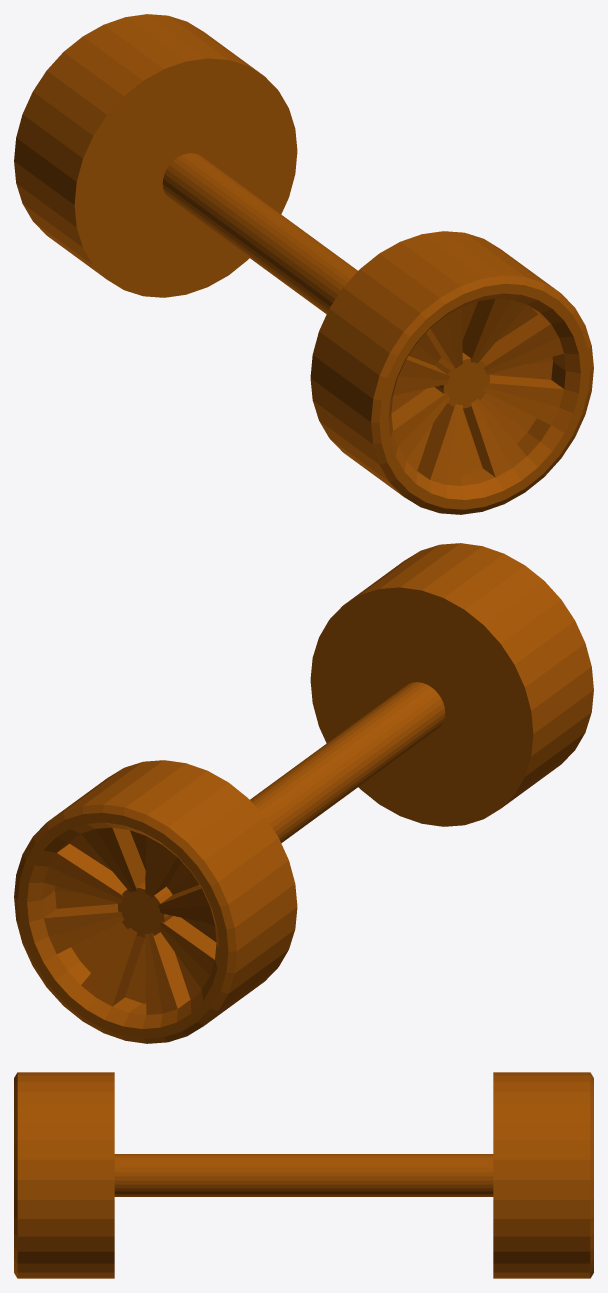
The model's file is wheel.obj.
3 renders of one model, top to bottom at view 1: azimuth 30°, elevation 25°; view 2: azimuth 150°, elevation 25°; view 3: azimuth 270°, elevation 25°, orthographic. The views are drawn at different scales.
Visible parts, largest first — view 1: Cylinder.004, Cylinder.003, Cylinder.005; view 2: Cylinder.003, Cylinder.004, Cylinder.005; view 3: Cylinder.004, Cylinder.003, Cylinder.005.
Boxes of the visible parts, x1,y1,x2,y2 form: Cylinder.004: (310, 231, 593, 514); Cylinder.003: (14, 14, 297, 297); Cylinder.005: (162, 153, 489, 408); Cylinder.003: (14, 760, 297, 1043); Cylinder.004: (310, 543, 593, 826); Cylinder.005: (118, 682, 445, 937); Cylinder.004: (14, 1072, 114, 1278); Cylinder.003: (493, 1072, 593, 1278); Cylinder.005: (114, 1154, 493, 1196).
Bounding box in the file's own units: 1.52 × 1.52 × 4.27.
